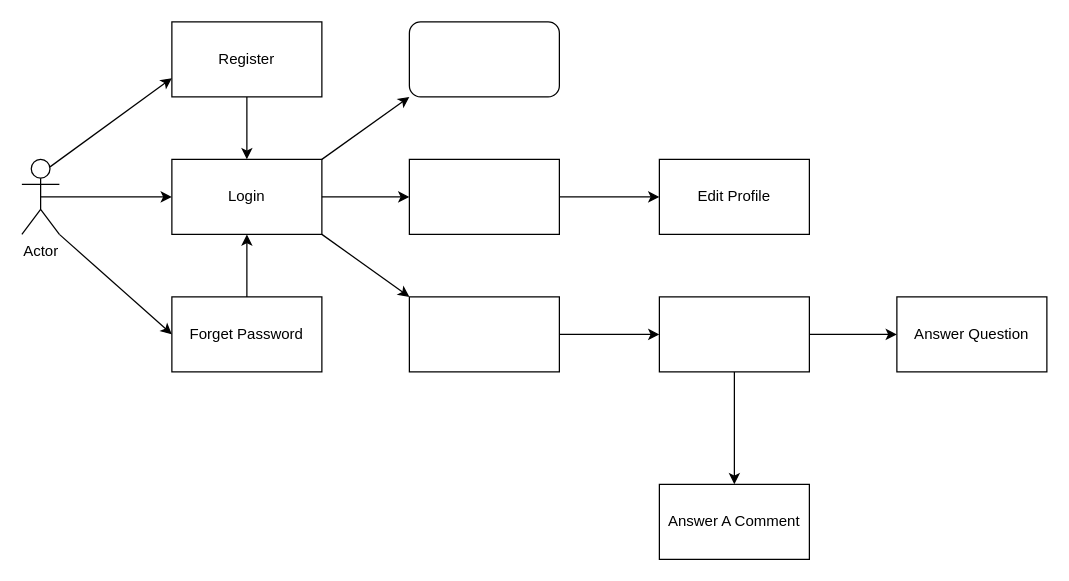
Image size: 1069x581. Some labels were removed from this diagram. The centre of each missing label's shape, as x and y in pixels:
Ask Question: (483,59)
Get Question List: (483,334)
Get Question Page: (733,334)
See Profile: (483,196)
